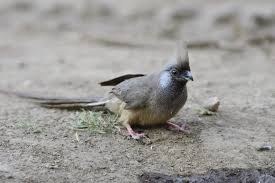target: (38, 32, 221, 175)
